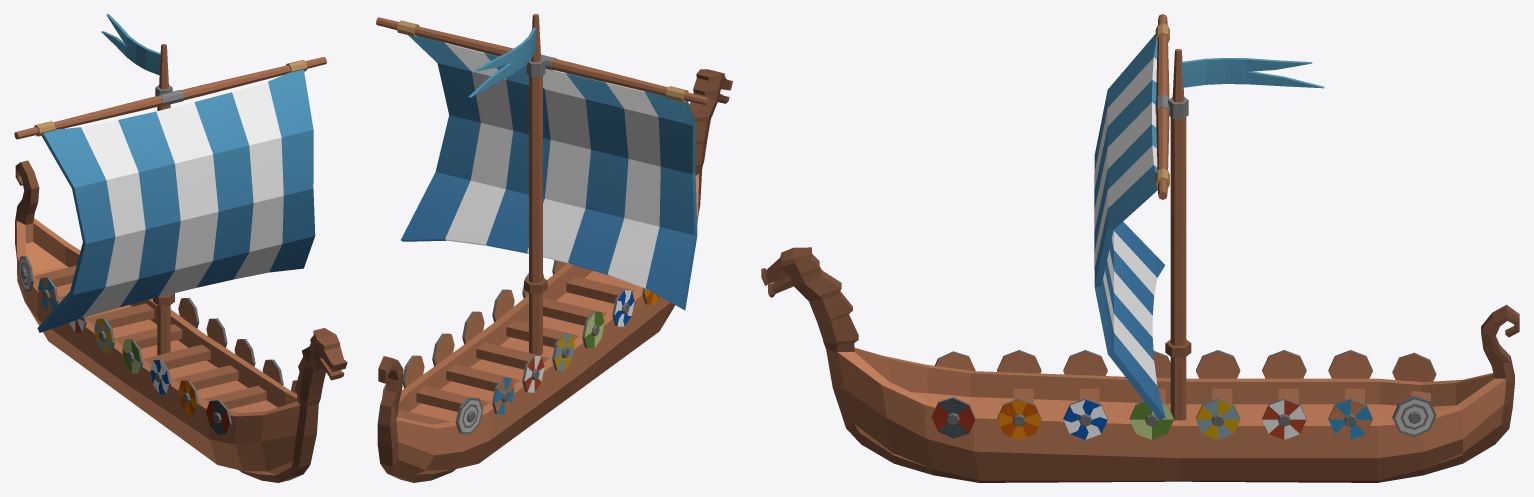
File: viking-ship-2.glb
3 views of the same model, side by side, from view 1: azimuth 30°, elevation 25°; view 2: azimuth 150°, elevation 25°; view 3: azimuth 270°, elevation 25° (orthographic). The views are drawn at different scales.
Parts seen in each view (by area): view 1: viking ship 2; view 2: viking ship 2; view 3: viking ship 2.
Boxes of the visible parts, x1,y1,x2,y2 form: viking ship 2: [14, 14, 347, 482]; viking ship 2: [376, 14, 732, 482]; viking ship 2: [761, 14, 1519, 482].
Bounding box in the file's own units: 10.37 × 11.71 × 18.72.
Materials: 1 (1 with a texture image).
